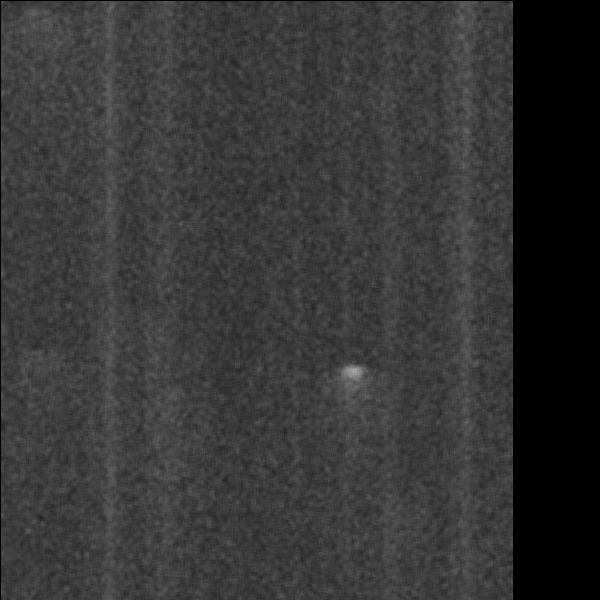spark: (335, 359, 371, 448)
